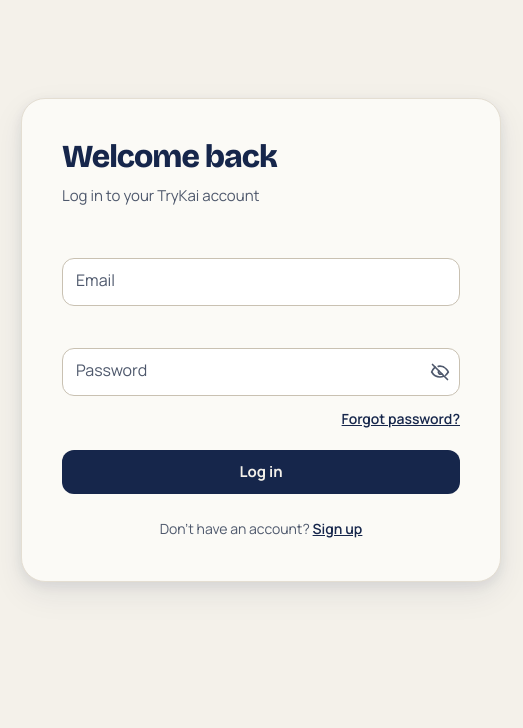
it: Login form › switches to sign-up mode and back
The width and height of the screenshot is (523, 728).
What coordinates should you click on to do the following:
click the button "Sign up"
I would click on:
 (338, 529)
Its box is [313,519,362,538].
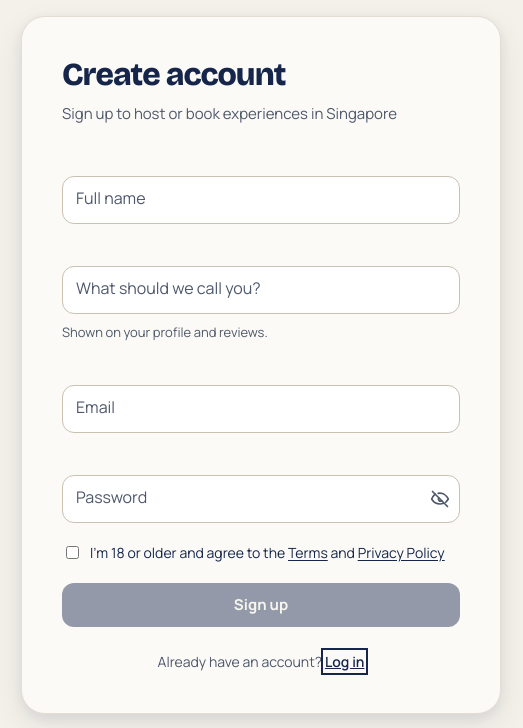
Expected: the heading "Create account" is shown, [62,55,285,94]
Expected: the text "Shown on your profile and reviews." is shown, [62,323,268,341]
Expected: the link "Forgot password?" is gone
What coordinates should you click on to do the following:
click the button "Log in"
I would click on:
 (345, 661)
Its box is [325,652,364,671].
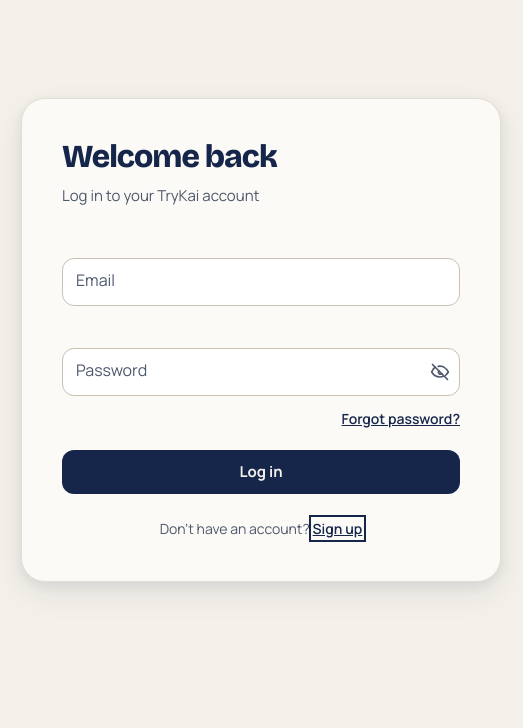
Expected: the button named "Show password" is shown, [420,348,460,396]
Expected: the heading "Welcome back" is shown, [62,137,277,176]
